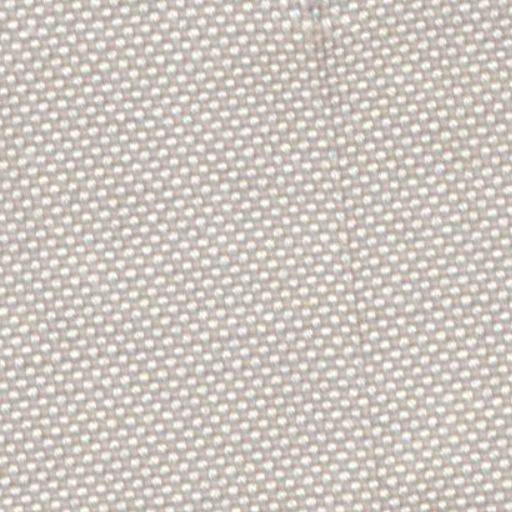TuoSha: (296, 28, 404, 503)
